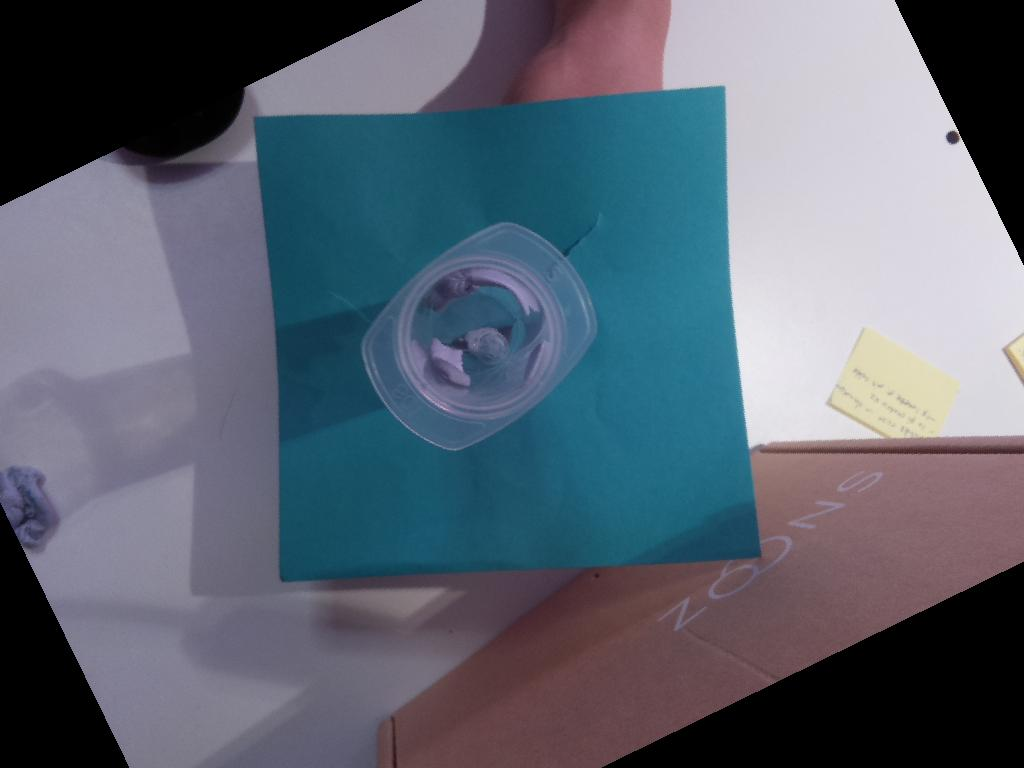dirty: (361, 221, 598, 452)
